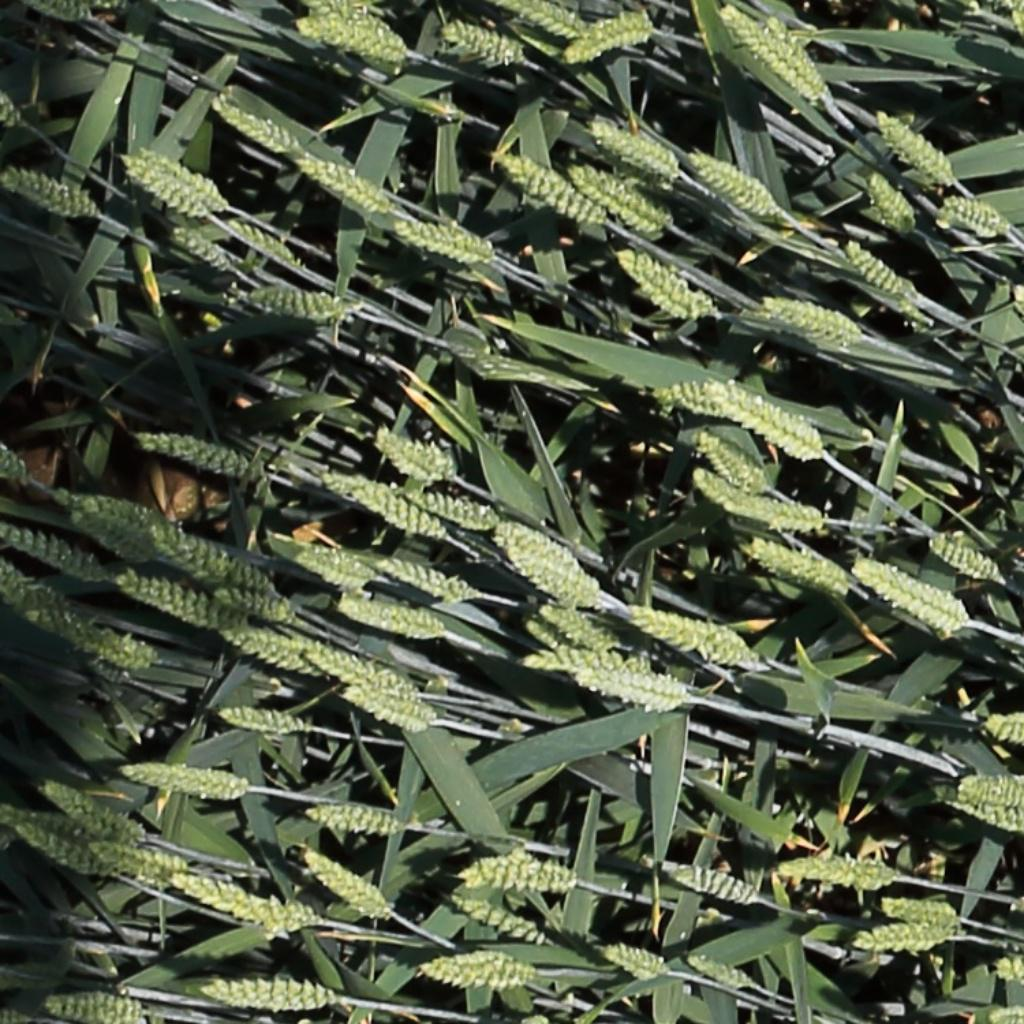0-0: (0, 560, 155, 671), (144, 516, 291, 608), (720, 6, 820, 102), (167, 873, 312, 933), (494, 148, 602, 225), (851, 561, 965, 633), (114, 573, 241, 632), (113, 147, 215, 219), (689, 473, 820, 529), (327, 472, 436, 539), (304, 645, 419, 707), (128, 144, 231, 210), (629, 607, 752, 662), (615, 248, 711, 318), (293, 152, 396, 217), (570, 163, 667, 232), (756, 13, 828, 105), (192, 975, 341, 1019), (485, 519, 589, 582), (872, 106, 955, 181), (456, 846, 583, 895), (300, 851, 385, 921), (38, 782, 137, 842), (13, 827, 122, 880), (688, 150, 776, 215), (117, 757, 250, 800), (503, 547, 596, 607), (742, 540, 847, 593), (1, 524, 99, 578), (588, 117, 677, 176), (136, 434, 258, 477), (414, 947, 536, 988), (451, 894, 543, 948), (841, 237, 913, 304), (337, 685, 437, 733), (50, 490, 166, 531), (2, 165, 95, 215), (211, 95, 293, 151), (759, 294, 860, 339), (374, 558, 476, 602), (309, 1, 400, 50), (219, 629, 318, 674), (696, 432, 765, 495), (331, 598, 442, 637), (296, 17, 400, 58), (390, 218, 492, 259), (409, 492, 504, 536), (371, 430, 452, 481), (656, 372, 726, 431), (775, 854, 892, 889), (662, 863, 757, 905), (936, 791, 1024, 836), (80, 845, 187, 882), (208, 588, 304, 629), (222, 215, 297, 267), (561, 17, 651, 60), (850, 921, 957, 957), (537, 603, 614, 653), (573, 673, 686, 707), (860, 165, 916, 233), (925, 533, 1002, 581), (46, 988, 146, 1024), (1, 809, 102, 843), (439, 21, 521, 62), (241, 288, 344, 320), (289, 544, 368, 585), (165, 221, 230, 268), (303, 803, 401, 834), (599, 941, 669, 983), (503, 0, 582, 36), (936, 196, 1011, 233), (215, 707, 311, 734), (685, 950, 752, 987), (879, 899, 961, 929), (960, 770, 1024, 808), (521, 653, 626, 671), (0, 435, 31, 486), (983, 713, 1021, 744), (32, 0, 90, 20), (994, 953, 1023, 981)
